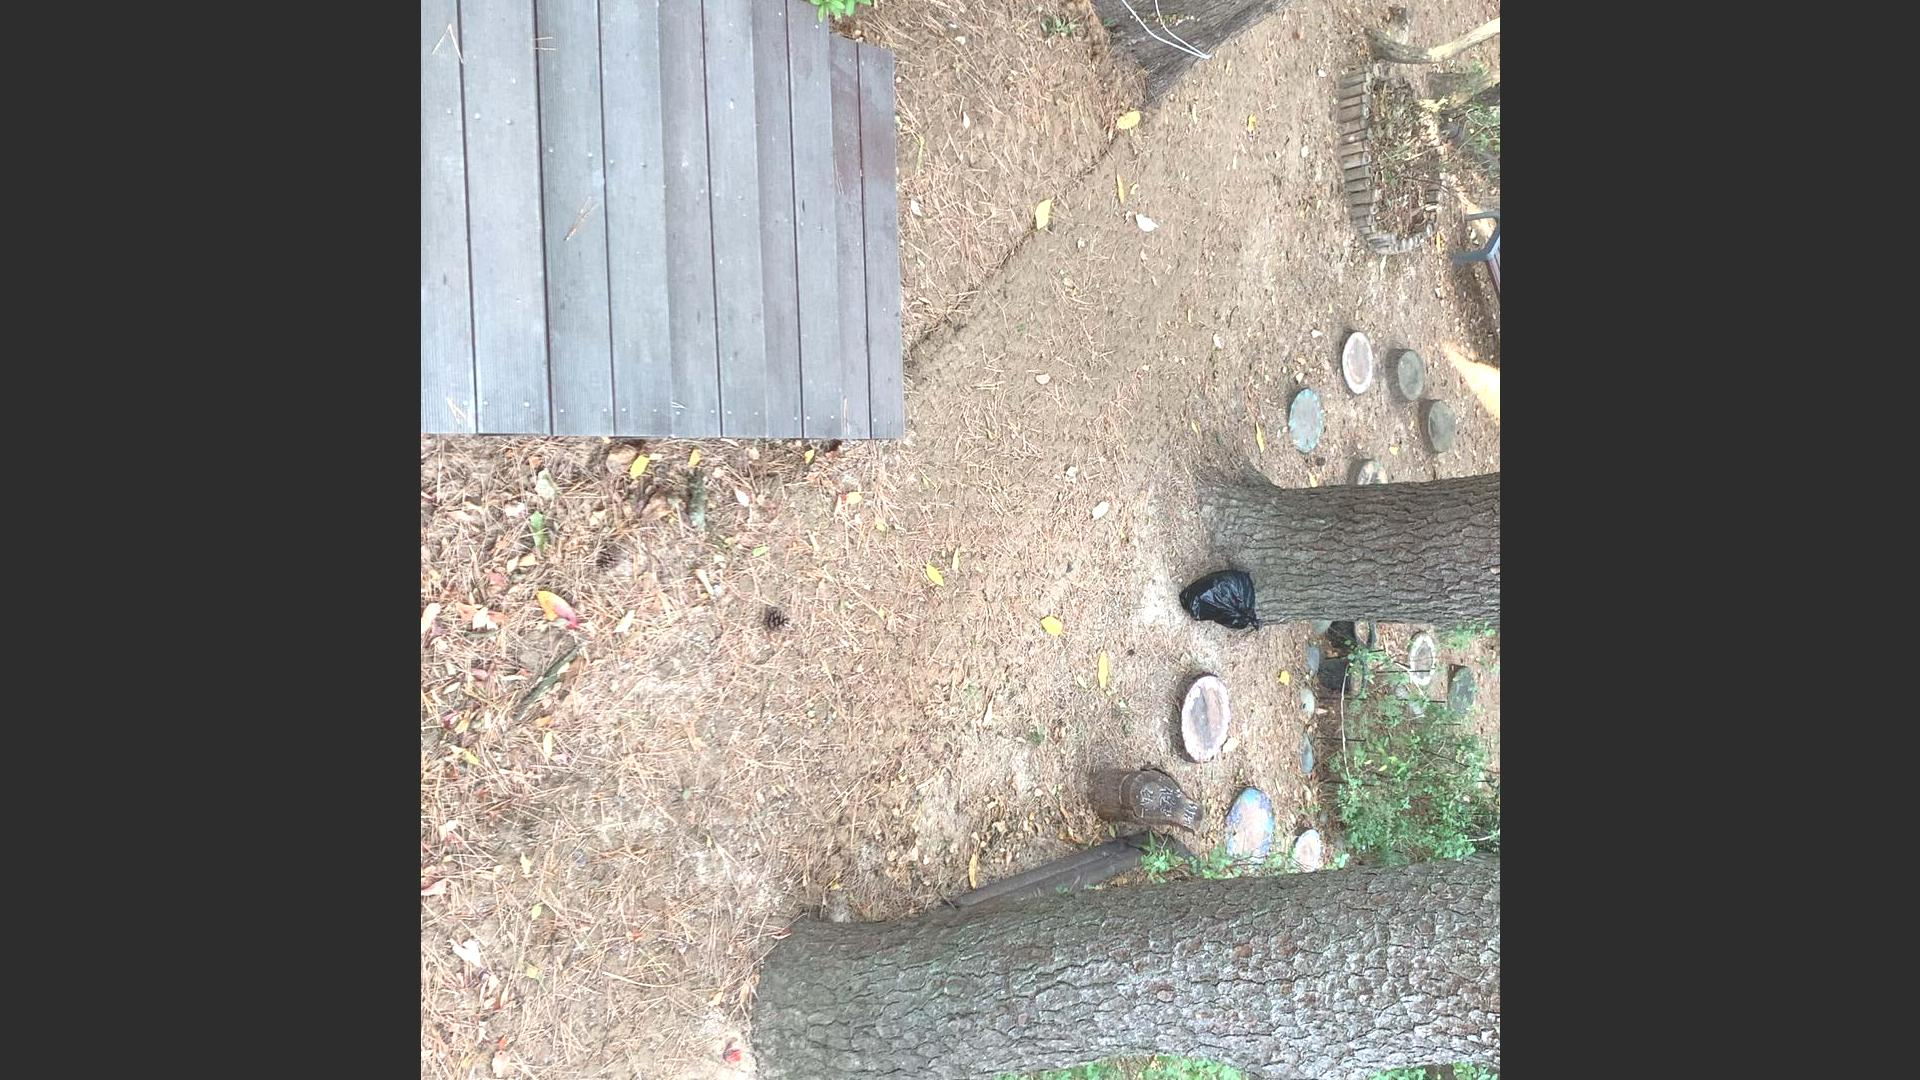black_bag: (1175, 564, 1262, 634)
